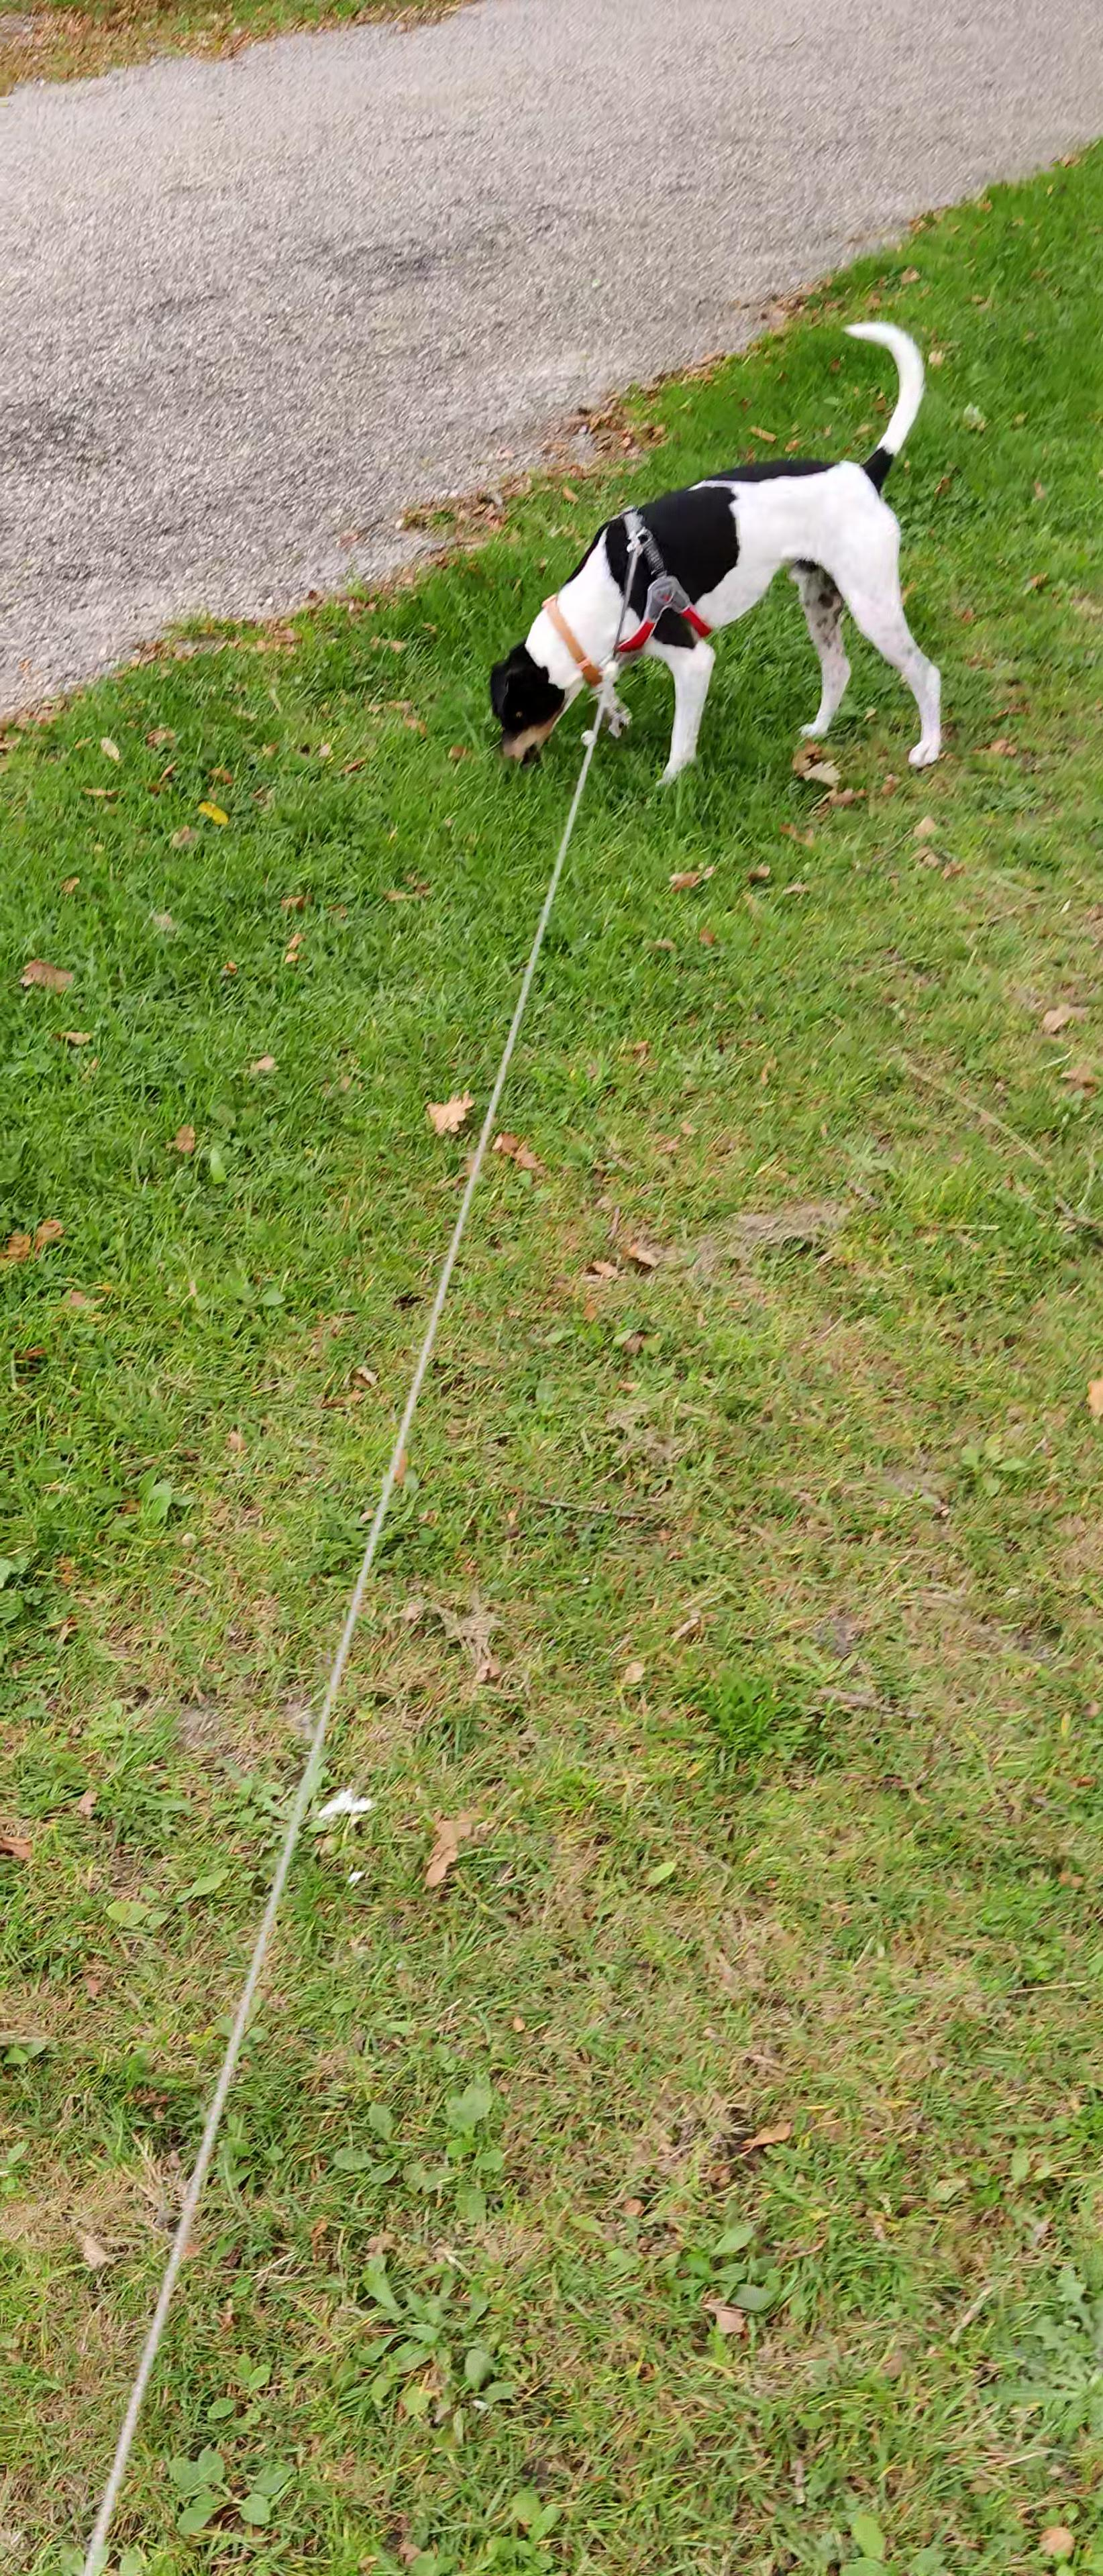Dog: (482, 315, 953, 790)
